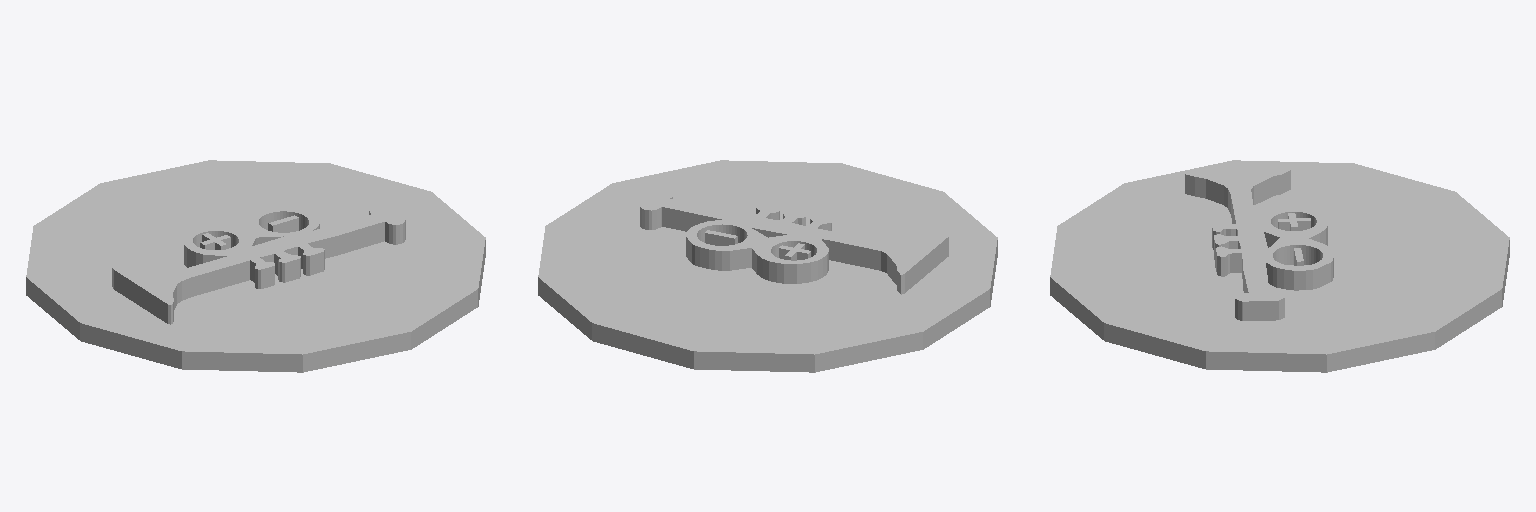
Rendered from superficie.obj.
The picture shows the model from 3 angles: view 1: azimuth 30°, elevation 25°; view 2: azimuth 150°, elevation 25°; view 3: azimuth 270°, elevation 25°; orthographic projection.
Parts seen in each view (by area): view 1: Mesh4 Group1 Model, Mesh1 Group2 Group1 Model; view 2: Mesh4 Group1 Model, Mesh1 Group2 Group1 Model; view 3: Mesh4 Group1 Model, Mesh1 Group2 Group1 Model.
Part boxes in pixels (left/top/right/bottom): Mesh4 Group1 Model: left=26, top=160, right=485, bottom=372; Mesh1 Group2 Group1 Model: left=112, top=206, right=405, bottom=324; Mesh4 Group1 Model: left=538, top=160, right=997, bottom=372; Mesh1 Group2 Group1 Model: left=640, top=191, right=948, bottom=294; Mesh4 Group1 Model: left=1050, top=160, right=1509, bottom=372; Mesh1 Group2 Group1 Model: left=1185, top=170, right=1333, bottom=320.
Size of the model in its own units: 112 by 10.48 by 112.